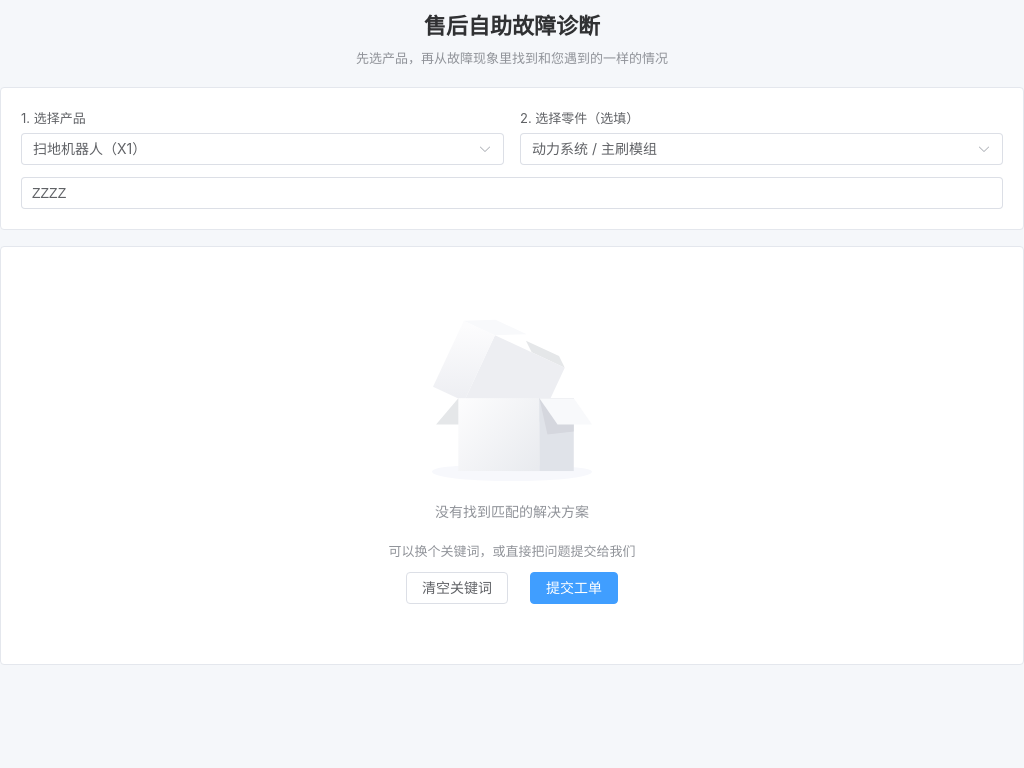
Scenario: Home 列表即选择器 › 关键词无匹配时可以一键清空关键词回到列表
Click the button "清空关键词". click: click(457, 588)
box: [406,572,508,604]
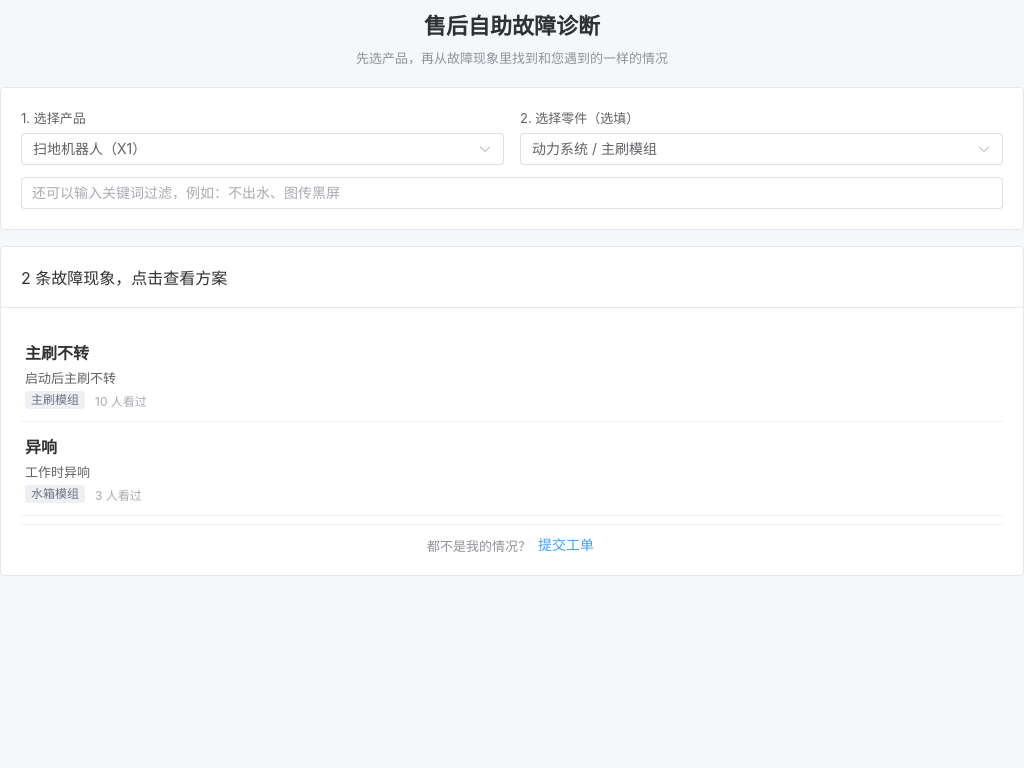
Check: the number of elements with class "fault-item" is 2, box [21,328,1003,422]; [21,422,1003,516]
